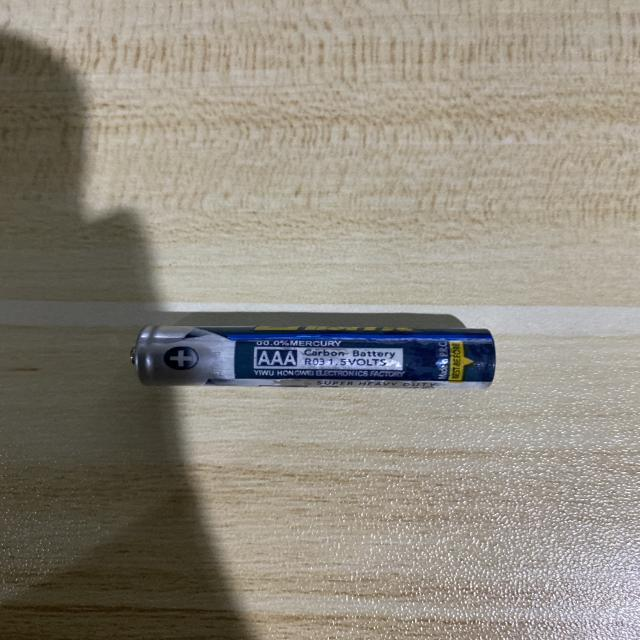hazardous waste: (126, 327, 497, 392)
